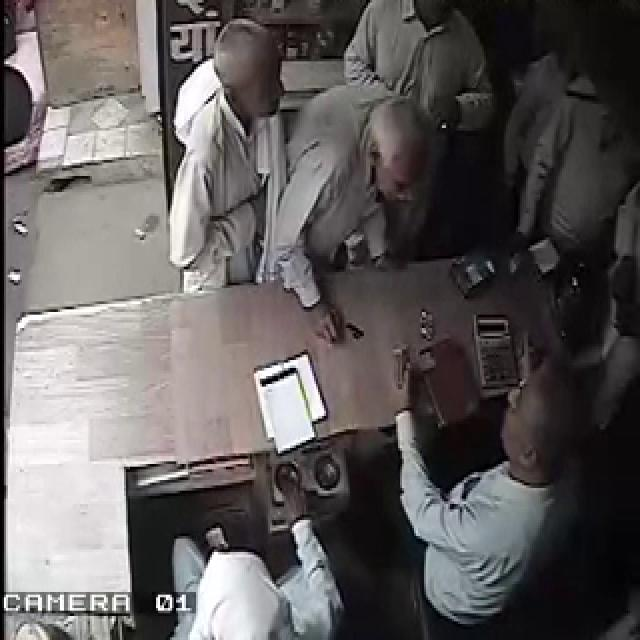shoplifting: (166, 16, 554, 344)
